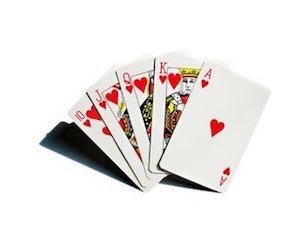AceOfHearts: (191, 59, 272, 195)
JackOfHearts: (86, 80, 125, 134)
KingOfHearts: (150, 52, 197, 184)
QueenOfHearts: (116, 62, 156, 119)
TenOfHearts: (65, 103, 103, 155)
